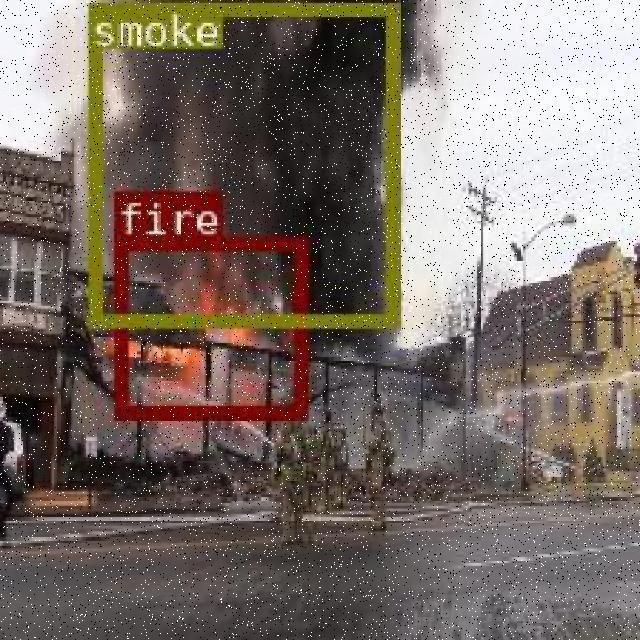Smoke: (87, 1, 395, 324)
